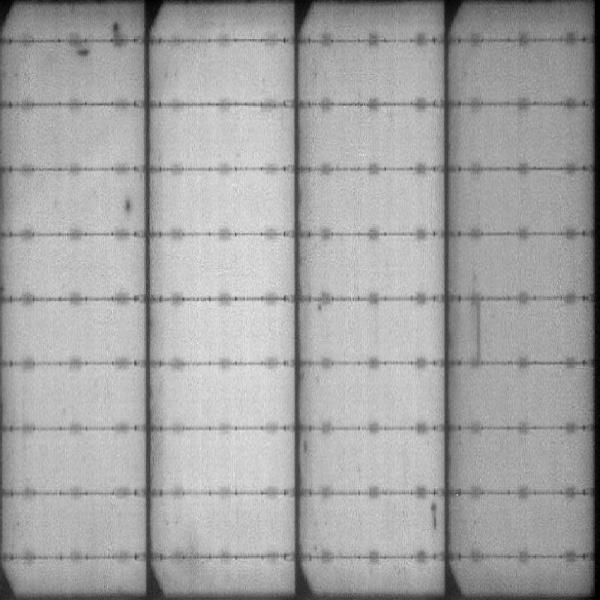scratch: (477, 303, 487, 373), (430, 501, 438, 531)
